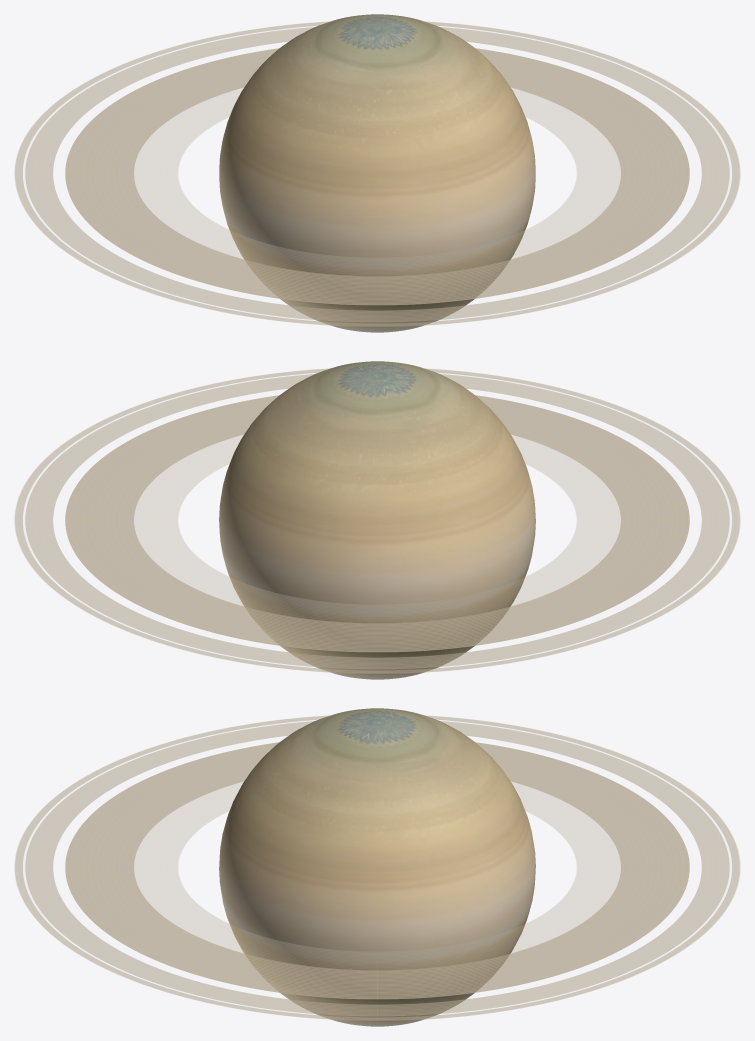
Rendered from saturn.glb.
3 views of the same model, one above another, from view 1: azimuth 30°, elevation 25°; view 2: azimuth 150°, elevation 25°; view 3: azimuth 270°, elevation 25° (orthographic).
Visible parts, largest first — view 1: saturn_rings, saturn; view 2: saturn_rings, saturn; view 3: saturn_rings, saturn.
Boxes of the visible parts, <box> form: saturn_rings: <box>14,21,740,326</box>; saturn: <box>219,14,535,332</box>; saturn_rings: <box>14,368,740,673</box>; saturn: <box>219,361,535,679</box>; saturn_rings: <box>14,715,740,1020</box>; saturn: <box>219,708,535,1026</box>.
Size of the model in its own units: 4.54 by 2 by 4.54.
2 materials, 2 textured.
